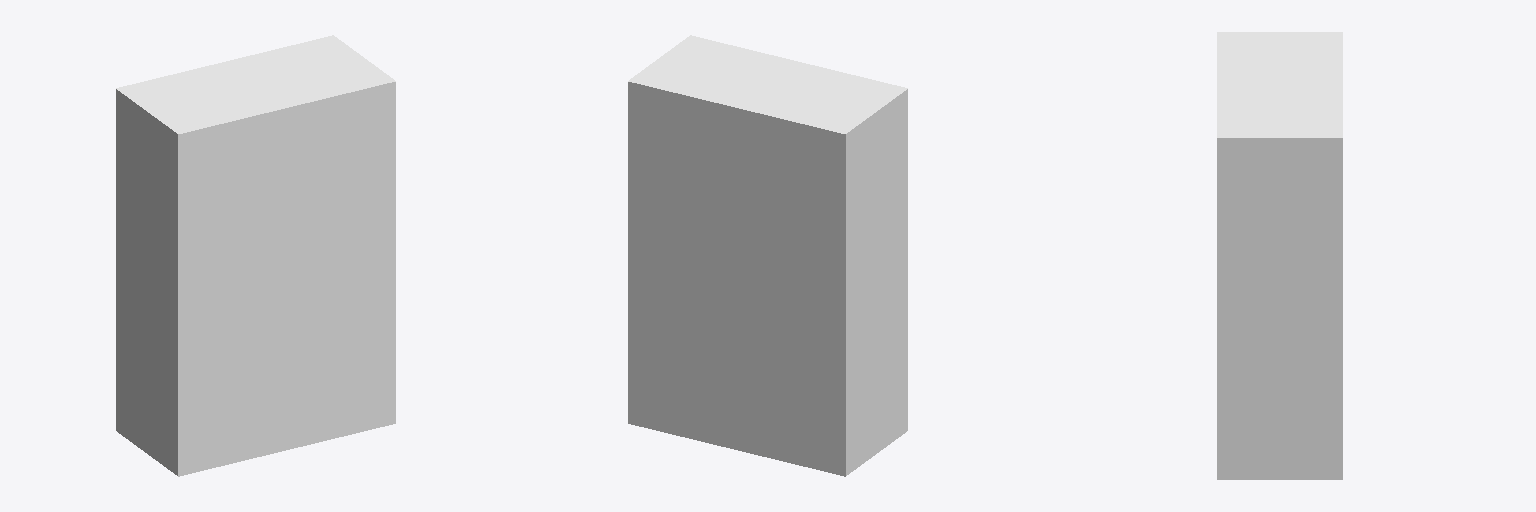
Rendered from rightarm.vox.obj.
3 views of the same model, side by side, from view 1: azimuth 30°, elevation 25°; view 2: azimuth 150°, elevation 25°; view 3: azimuth 270°, elevation 25° (orthographic).
Visible parts, largest first — view 1: object 1; view 2: object 1; view 3: object 1.
Part boxes in pixels (x1,y1,x2,y2): object 1: (116,35,395,476); object 1: (628,35,907,476); object 1: (1217,32,1342,479).
Size of the model in its own units: 0.2 by 0.3 by 0.1.